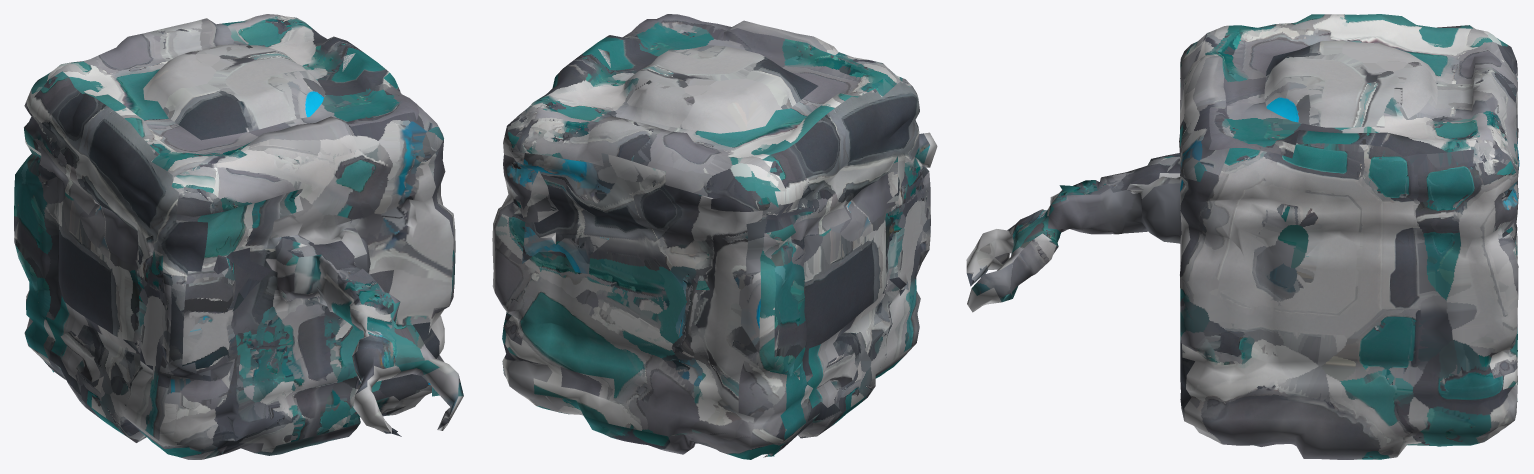
File: SM_MiningDock_tex1.fbx
The picture shows the model from 3 angles, left to right: view 1: azimuth 30°, elevation 25°; view 2: azimuth 150°, elevation 25°; view 3: azimuth 270°, elevation 25°; orthographic projection. The views are drawn at different scales.
Parts seen in each view (by area): view 1: SMT_MiningDock; view 2: SMT_MiningDock; view 3: SMT_MiningDock.
Part boxes in pixels (bbox=[...]): SMT_MiningDock: bbox=[14, 14, 463, 459]; SMT_MiningDock: bbox=[492, 14, 937, 459]; SMT_MiningDock: bbox=[966, 14, 1519, 459].
Size of the model in its own units: 0.5759 by 0.6213 by 0.9403.
